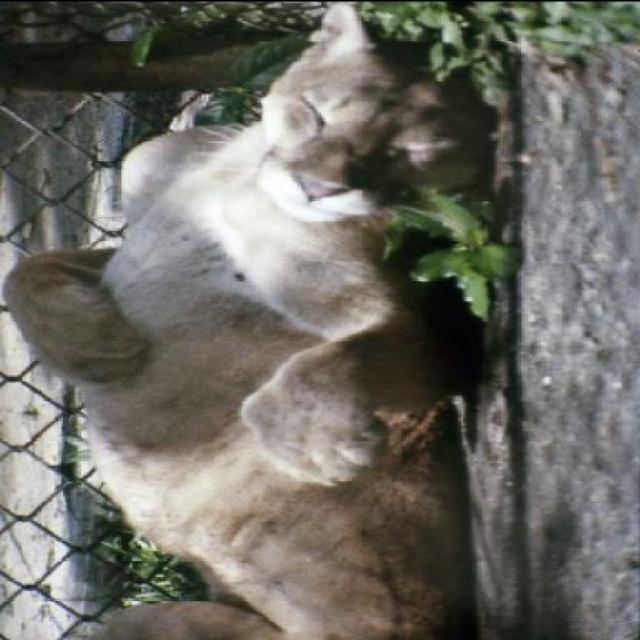Lion: (30, 21, 572, 634)
